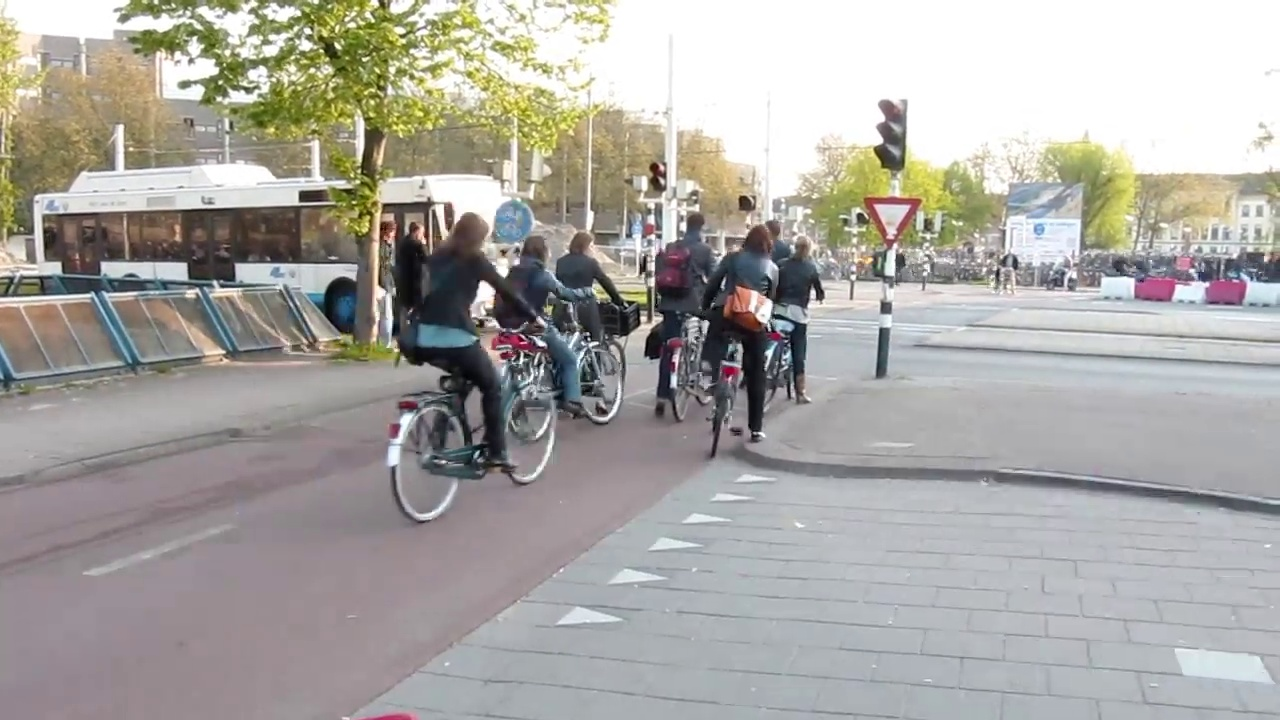cyclist_back: (384, 204, 565, 517), (635, 203, 712, 428), (708, 215, 766, 474), (762, 235, 830, 411)
